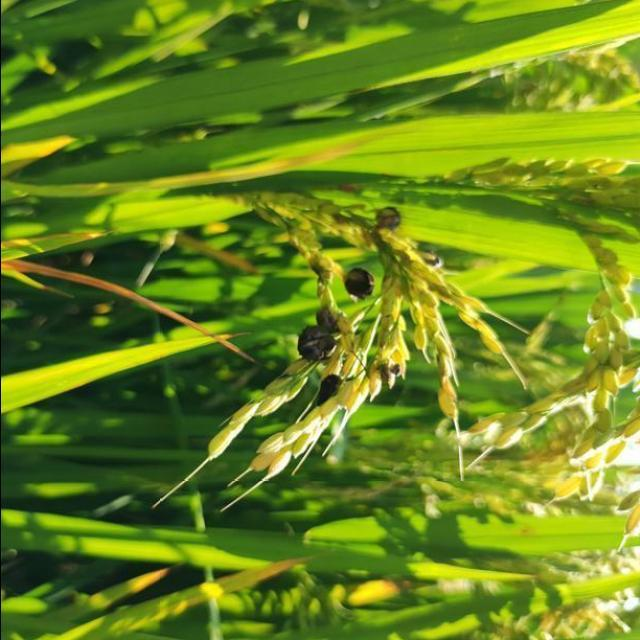Leaf_Scald: (296, 310, 346, 364), (340, 264, 380, 306), (312, 374, 346, 409)
